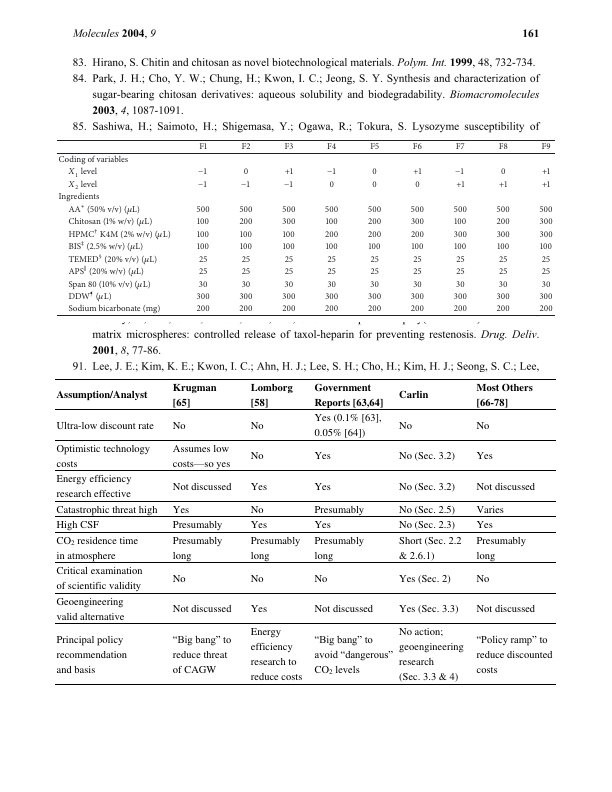borderless: (55, 377, 556, 684), (55, 138, 555, 315)
cell: (398, 625, 465, 684), (314, 631, 394, 677), (475, 631, 554, 676), (55, 633, 128, 676), (250, 625, 303, 684), (172, 631, 232, 676), (55, 442, 151, 470), (55, 564, 144, 593), (55, 534, 139, 562), (55, 472, 132, 501), (314, 380, 384, 409), (314, 411, 383, 440), (55, 595, 125, 623), (398, 534, 463, 562), (67, 225, 172, 242), (475, 380, 534, 409), (172, 442, 231, 471), (67, 251, 158, 267), (475, 534, 527, 562), (172, 534, 223, 562), (250, 534, 301, 562), (314, 534, 365, 562), (55, 503, 158, 516), (172, 380, 218, 409), (55, 388, 148, 402), (55, 419, 155, 432), (67, 214, 153, 229), (250, 380, 294, 409), (67, 276, 152, 291), (67, 263, 145, 279), (67, 238, 144, 254), (67, 201, 141, 217), (67, 304, 161, 315), (398, 602, 460, 616), (475, 602, 536, 616), (172, 602, 232, 616), (314, 602, 374, 616), (398, 449, 456, 463), (398, 518, 456, 532), (475, 480, 536, 493), (172, 480, 232, 493), (398, 480, 456, 493), (398, 503, 456, 516), (67, 288, 113, 304), (57, 155, 129, 165), (172, 518, 223, 532), (398, 572, 452, 585), (314, 503, 365, 516), (55, 518, 100, 532), (67, 176, 98, 193), (67, 164, 98, 180), (57, 192, 100, 203), (398, 388, 429, 402), (475, 503, 505, 516), (475, 449, 494, 463), (475, 518, 494, 532), (314, 449, 332, 463), (250, 518, 268, 532), (314, 518, 332, 532), (250, 602, 268, 616), (250, 480, 268, 493), (314, 480, 332, 493), (172, 503, 190, 516), (250, 449, 265, 463), (172, 419, 187, 432), (250, 419, 265, 432), (398, 419, 413, 432), (475, 419, 490, 432), (250, 503, 265, 516), (172, 572, 187, 585), (250, 572, 265, 585), (475, 572, 490, 585), (197, 176, 209, 192), (240, 176, 252, 192), (283, 176, 295, 192), (314, 572, 328, 585), (197, 164, 209, 179), (326, 164, 338, 179), (238, 217, 254, 228), (238, 304, 254, 315), (455, 164, 466, 179), (281, 217, 296, 228), (367, 217, 382, 228), (410, 217, 425, 228), (496, 217, 511, 228), (539, 217, 554, 228), (324, 229, 339, 240), (367, 229, 382, 240), (410, 229, 425, 240), (453, 229, 468, 240), (496, 229, 511, 240), (539, 229, 554, 240), (196, 304, 211, 315), (281, 304, 296, 315), (324, 304, 339, 315), (367, 304, 382, 315), (410, 304, 425, 315), (453, 304, 468, 315), (496, 304, 511, 315), (539, 304, 554, 315), (238, 205, 254, 215), (238, 292, 254, 302), (196, 217, 210, 228), (325, 217, 339, 228), (453, 217, 467, 228), (196, 229, 210, 240), (239, 229, 253, 240), (282, 229, 296, 240), (196, 242, 210, 253), (239, 242, 253, 253), (282, 242, 296, 253), (325, 242, 339, 253), (368, 242, 382, 253), (410, 242, 424, 253), (453, 242, 467, 253), (496, 242, 510, 253), (539, 242, 553, 253), (196, 205, 211, 215), (281, 205, 296, 215), (324, 205, 339, 215), (367, 205, 382, 215), (410, 205, 425, 215), (453, 205, 468, 215), (496, 205, 511, 215), (539, 205, 554, 215), (196, 292, 211, 302), (281, 292, 296, 302), (324, 292, 339, 302), (367, 292, 382, 302), (410, 292, 425, 302), (453, 292, 468, 302), (496, 292, 511, 302), (539, 292, 554, 302), (283, 142, 294, 153), (326, 142, 337, 153), (369, 142, 380, 153), (412, 142, 423, 153), (455, 142, 466, 153), (498, 142, 509, 153), (541, 142, 552, 153), (412, 167, 423, 178), (369, 254, 380, 265), (412, 254, 423, 265), (455, 254, 466, 265), (326, 279, 337, 290), (369, 279, 380, 290), (412, 279, 423, 290), (455, 279, 466, 290), (198, 142, 208, 153), (241, 142, 251, 153), (284, 167, 294, 178), (541, 167, 551, 178), (198, 254, 208, 265), (241, 254, 251, 265), (284, 254, 294, 265), (327, 254, 337, 265), (498, 254, 508, 265), (541, 254, 551, 265), (369, 267, 380, 277), (412, 267, 423, 277), (455, 267, 466, 277), (198, 279, 208, 290), (241, 279, 251, 290), (284, 279, 294, 290), (498, 279, 508, 290), (541, 279, 551, 290), (455, 180, 465, 190), (498, 180, 508, 190), (541, 180, 551, 190), (198, 267, 208, 277), (241, 267, 251, 277), (284, 267, 294, 277), (327, 267, 337, 277), (498, 267, 508, 277), (541, 267, 551, 277), (371, 167, 378, 178), (371, 180, 378, 190), (414, 180, 421, 190), (243, 167, 249, 178), (500, 167, 506, 178), (329, 180, 335, 190)
